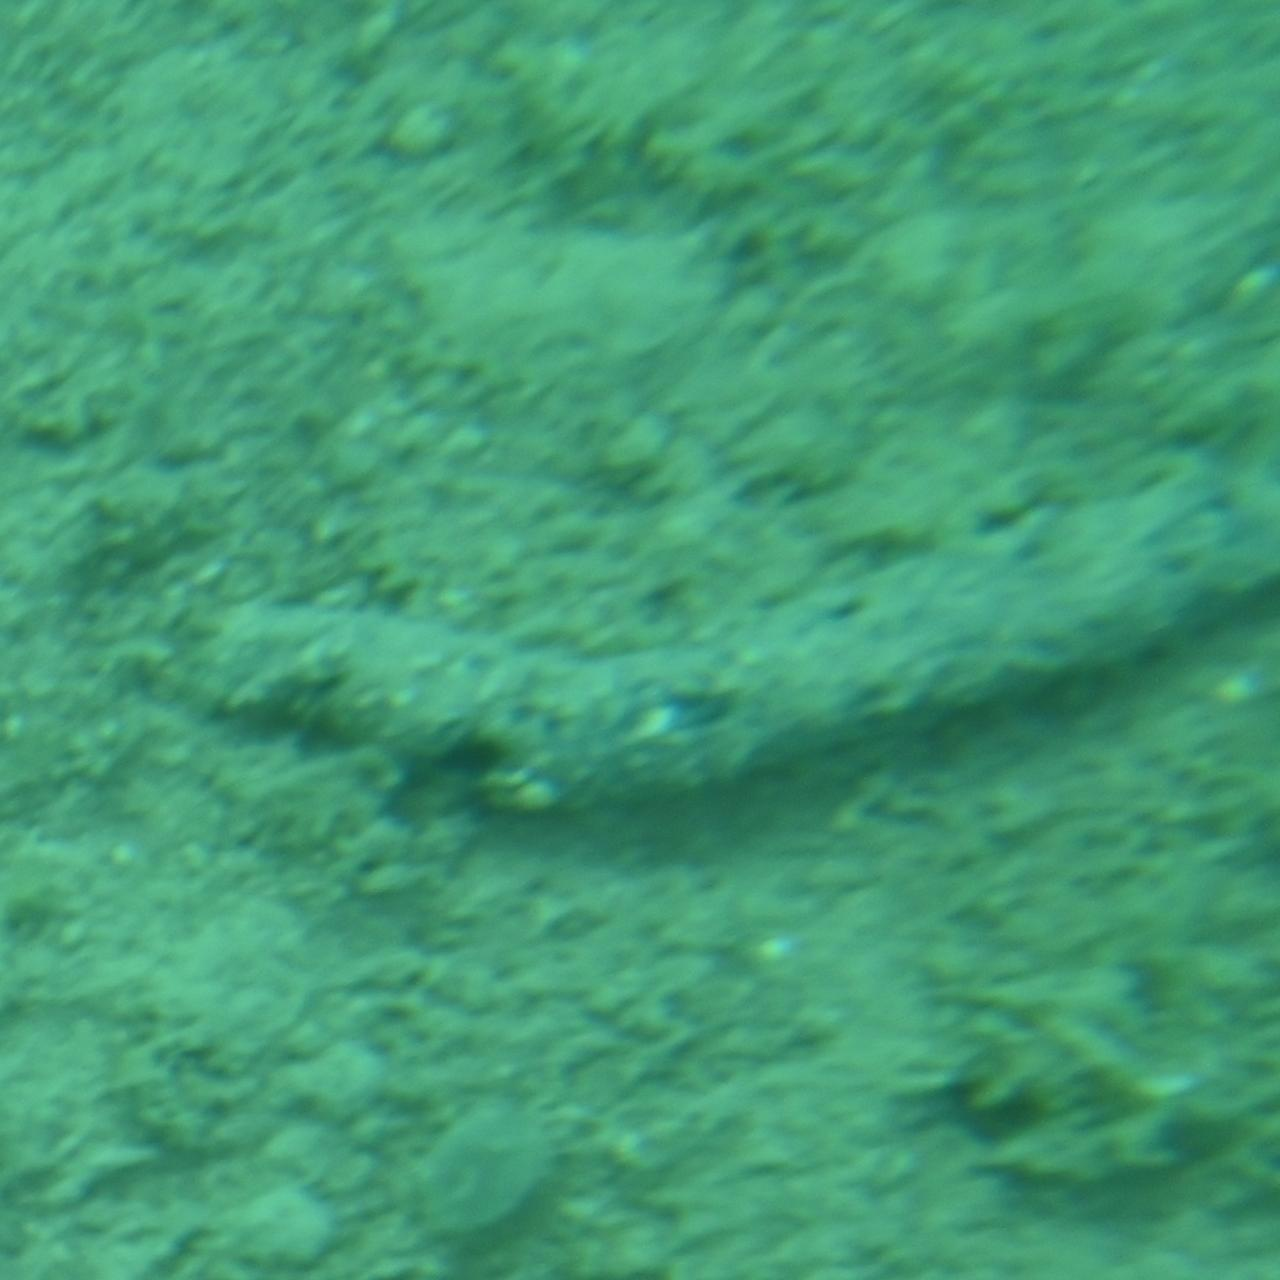Holothuria tubulosa: (193, 474, 1279, 806)
